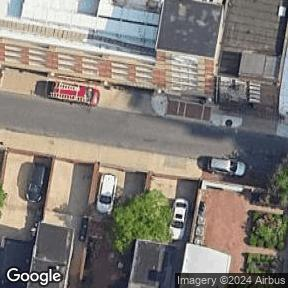vegetation: (103, 186, 179, 254), (243, 254, 276, 275), (278, 167, 288, 198), (0, 184, 6, 208)
